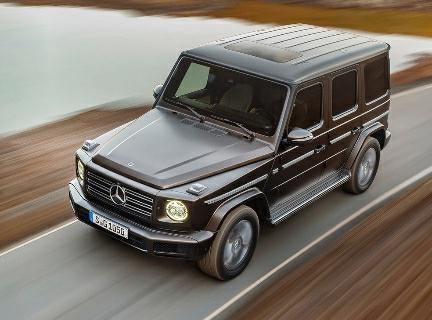奔驰-G级: (58, 21, 399, 282)
